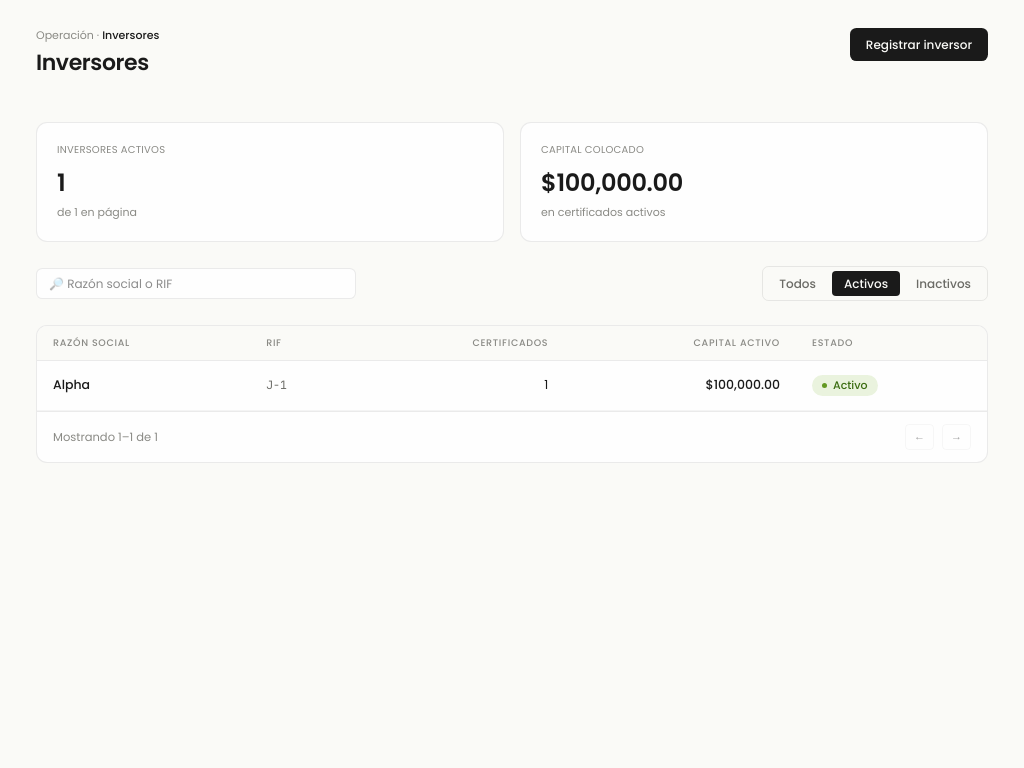
Test: <InvestorsPage /> › clicking a row opens the edit modal for operator
Click the text "Alpha".
click(72, 385)  # box [37,360,250,411]
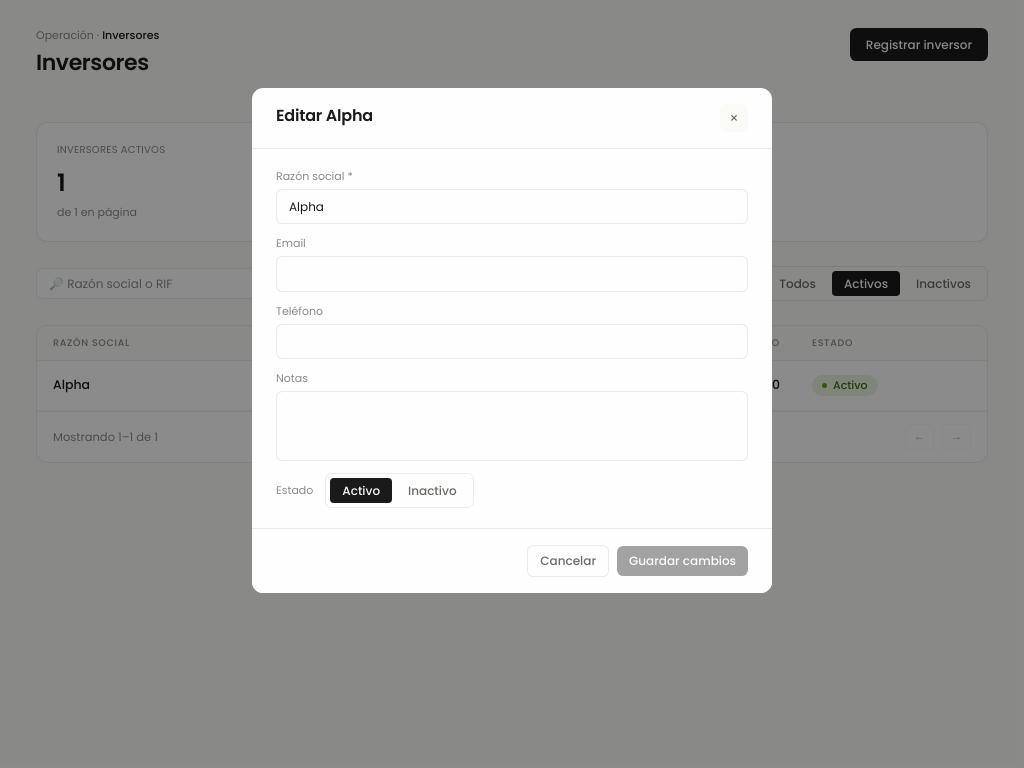
Check: the heading "Editar Alpha" is shown, box [276,104,373,127]
